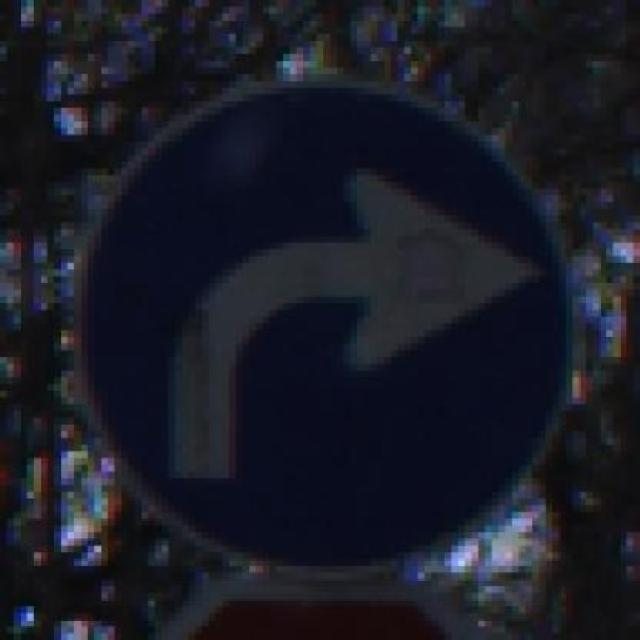Turn right ahead: (47, 60, 599, 586)
